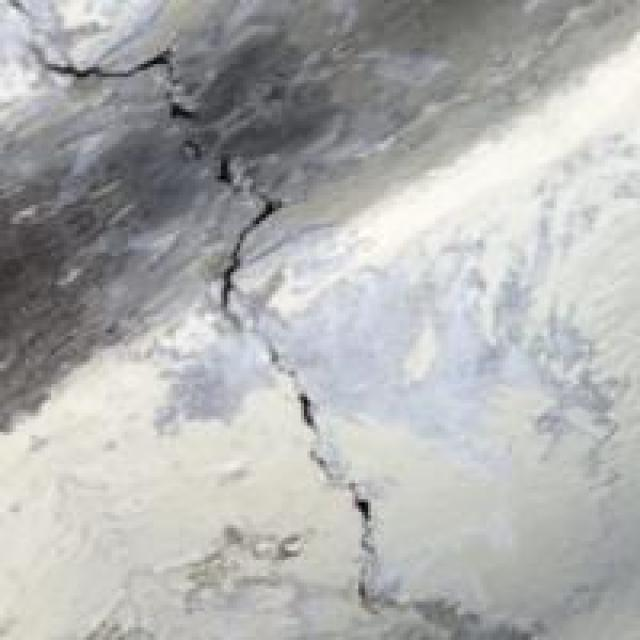crack: (19, 9, 438, 630)
